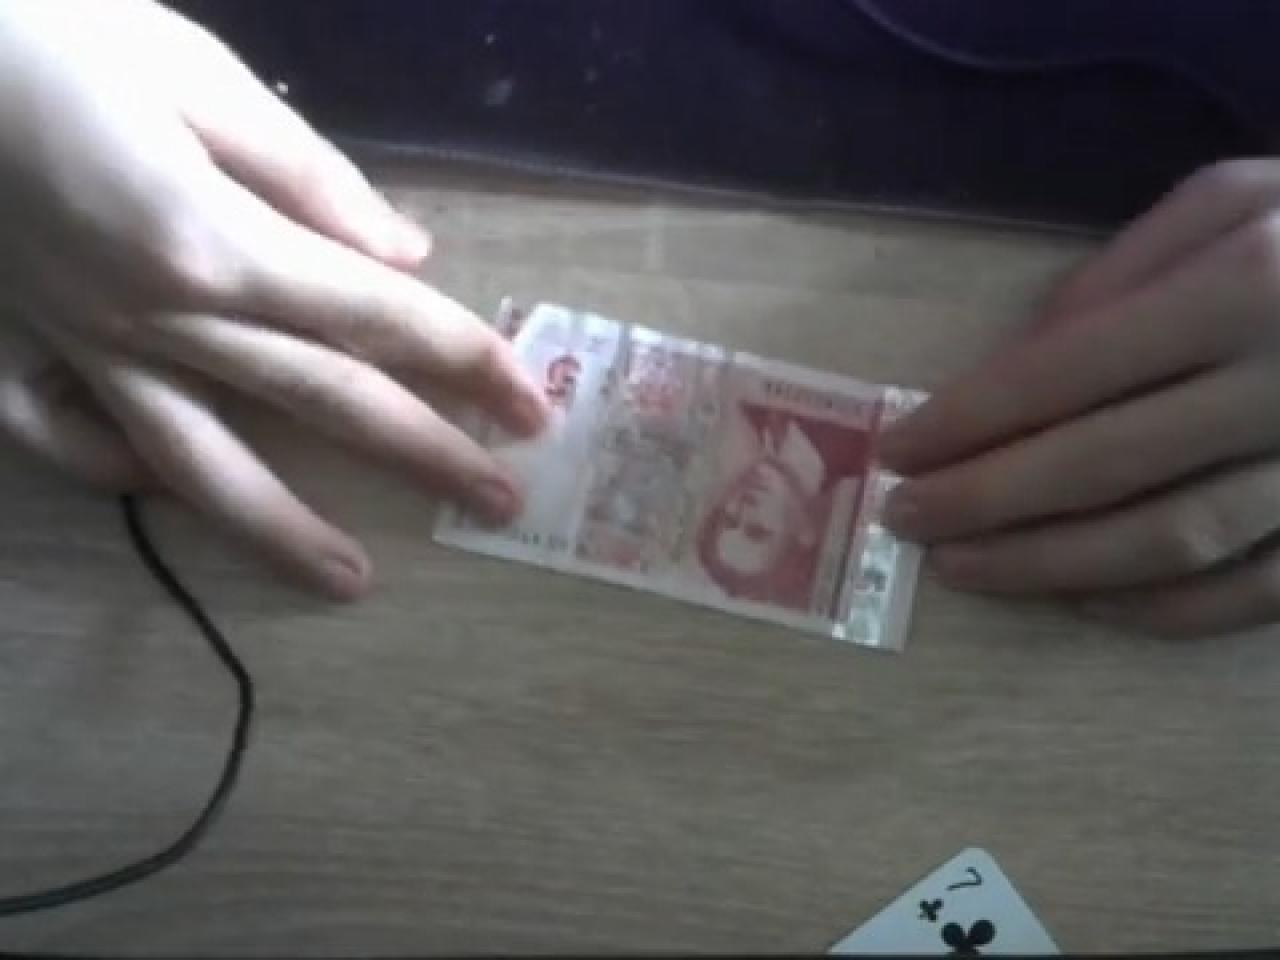5leva: (432, 304, 922, 656)
